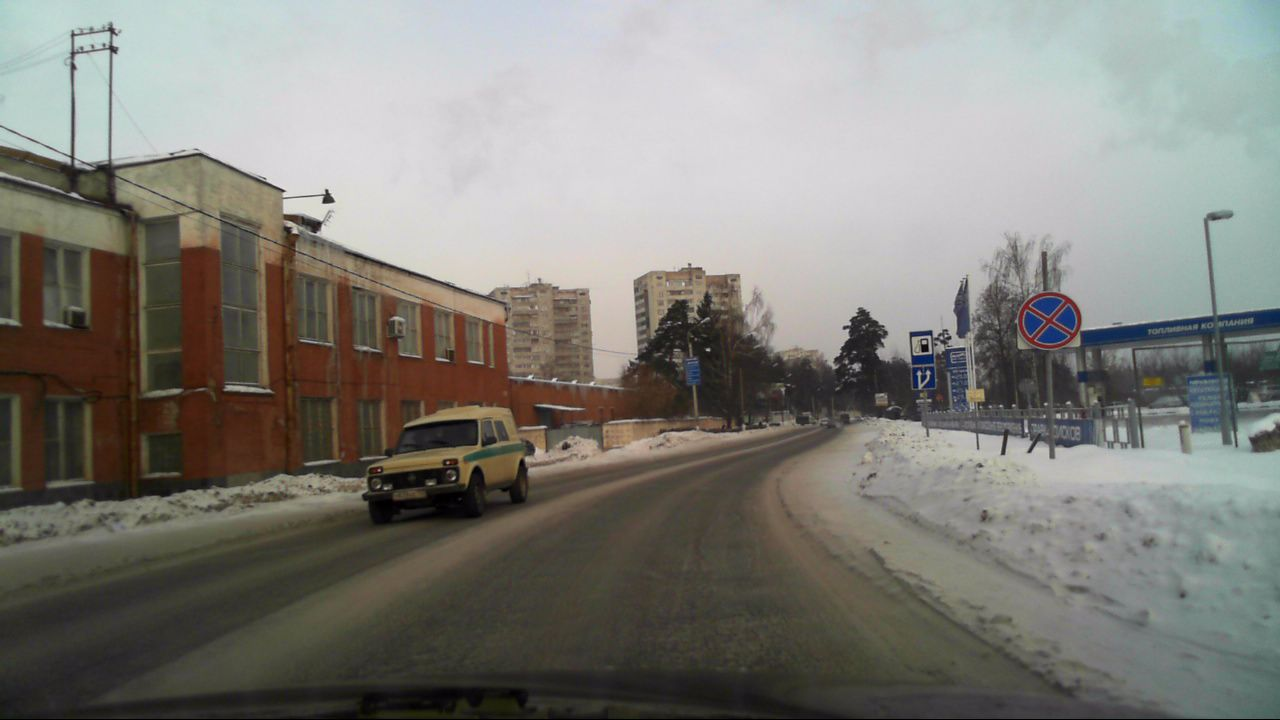No Parking: (1019, 291, 1081, 349)
